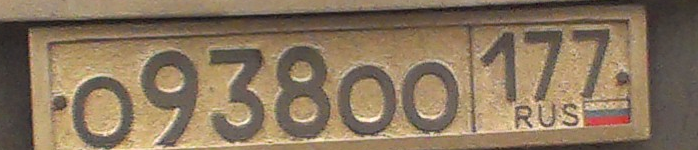character: (208, 37, 270, 147), (272, 39, 332, 141), (140, 49, 199, 150), (68, 71, 135, 150), (338, 64, 400, 139), (401, 60, 463, 133), (475, 29, 523, 105), (570, 25, 612, 103), (522, 29, 564, 106)
